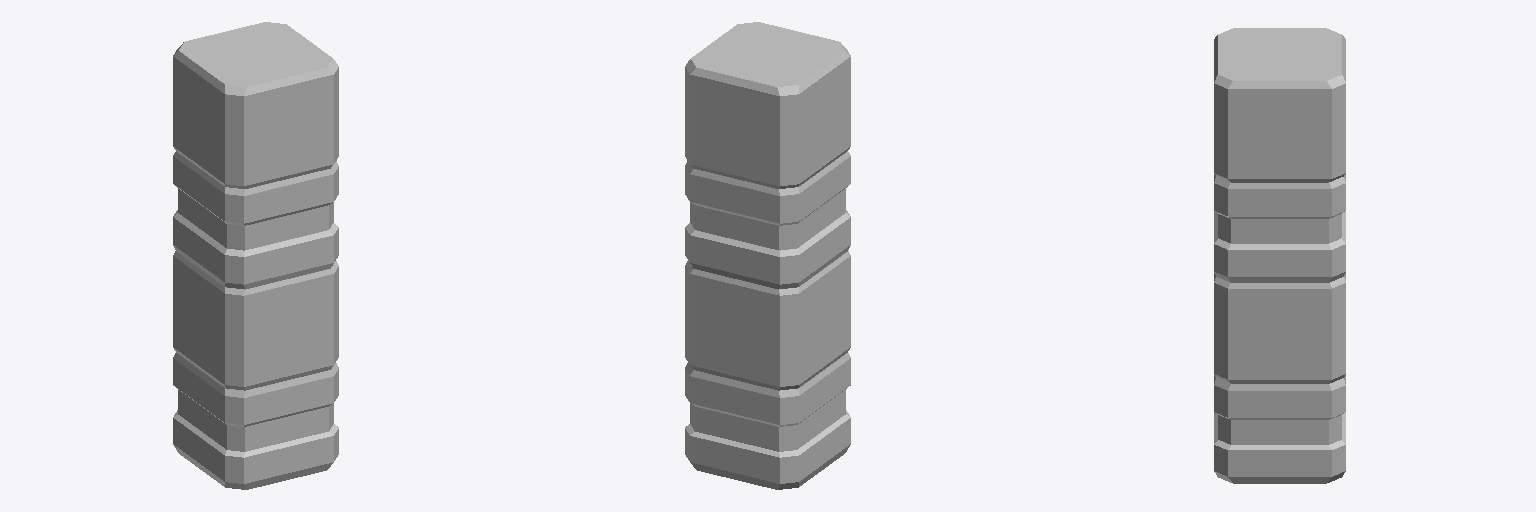
File: stone_welder_majestic.obj
3 renders of one model, left to right at view 1: azimuth 30°, elevation 25°; view 2: azimuth 150°, elevation 25°; view 3: azimuth 270°, elevation 25°, orthographic.
Visible parts, largest first — view 1: pCube2; view 2: pCube2; view 3: pCube2.
Part boxes in pixels (left/top/right/bottom): pCube2: left=173, top=22, right=338, bottom=489; pCube2: left=685, top=22, right=850, bottom=489; pCube2: left=1214, top=28, right=1345, bottom=483.
Bounding box in the file's own units: 1.19 × 4 × 1.19.